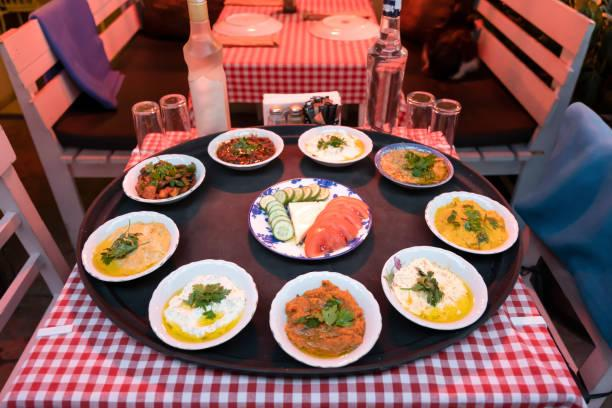Braised Crucian Carp: (267, 269, 383, 368), (247, 177, 371, 261), (147, 259, 258, 352), (380, 244, 487, 330), (81, 209, 178, 283), (424, 189, 519, 255), (121, 152, 205, 204), (373, 141, 454, 187), (206, 127, 284, 170), (298, 124, 374, 165)
